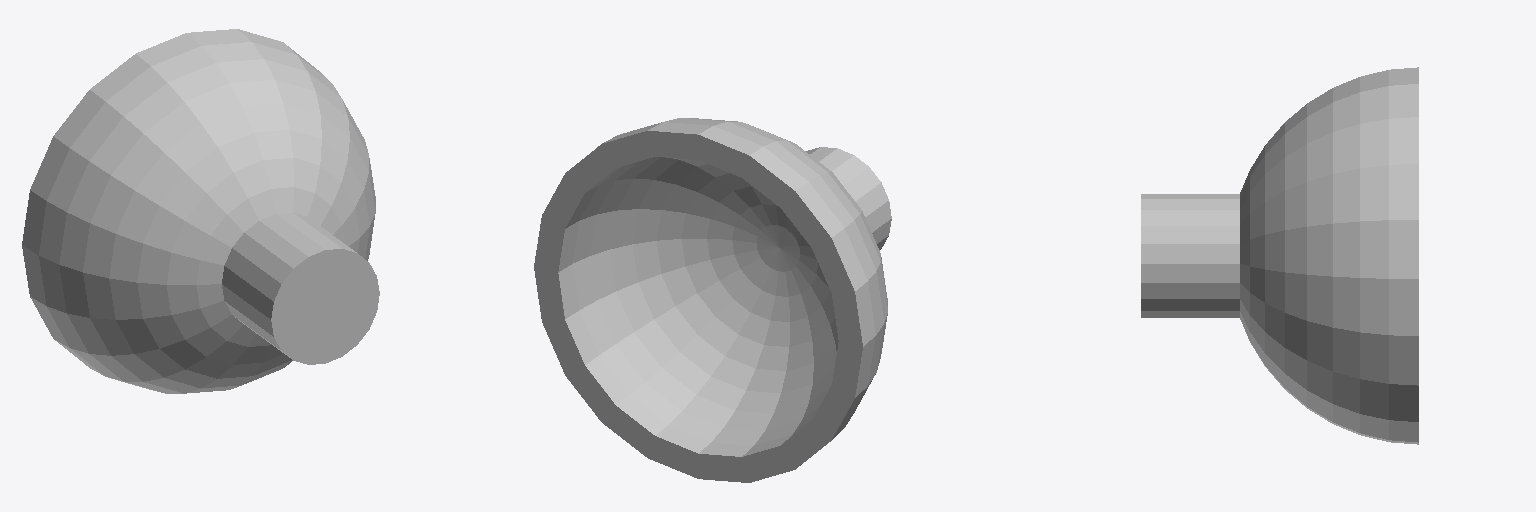
The model's file is ballJointLeft.obj.
3 views of the same model, side by side, from view 1: azimuth 30°, elevation 25°; view 2: azimuth 150°, elevation 25°; view 3: azimuth 270°, elevation 25° (orthographic).
Parts seen in each view (by area): view 1: polySurface3; view 2: polySurface3; view 3: polySurface3.
Part boxes in pixels (x1,y1,x2,y2): polySurface3: (22, 29, 379, 393); polySurface3: (534, 118, 891, 482); polySurface3: (1141, 67, 1418, 444).
Bounding box in the file's own units: 2 × 2 × 1.46.